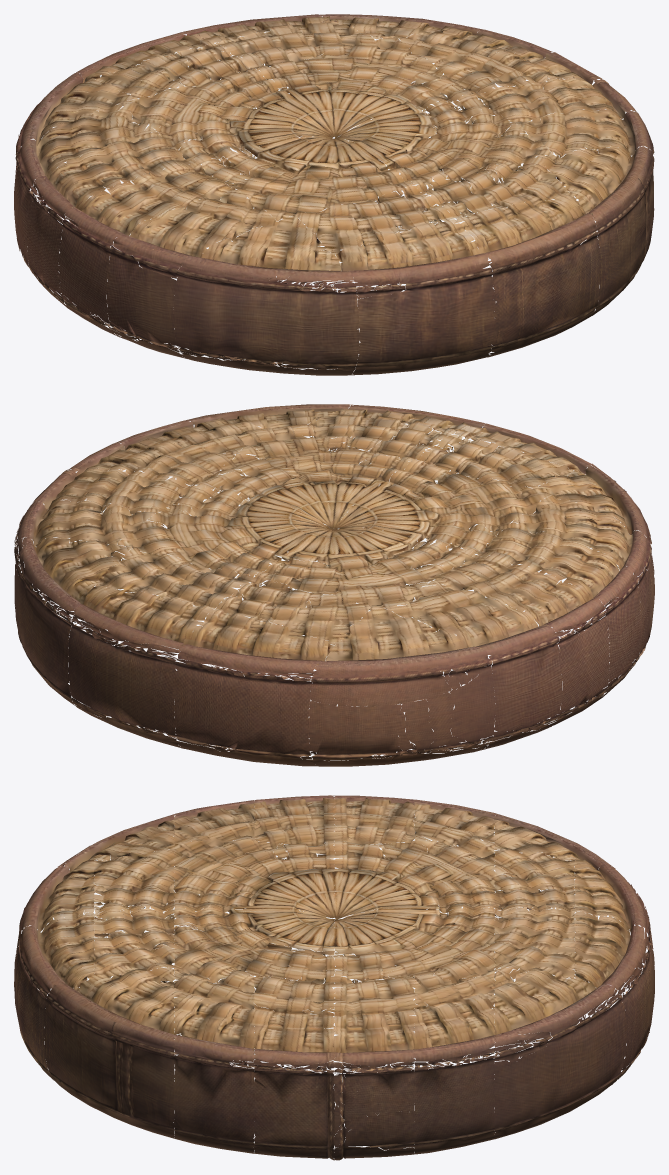
File: hi3d-cushion.glb
3 renders of one model, top to bottom at view 1: azimuth 30°, elevation 25°; view 2: azimuth 150°, elevation 25°; view 3: azimuth 270°, elevation 25°, orthographic.
Visible parts, largest first — view 1: cushion; view 2: cushion; view 3: cushion.
Part boxes in pixels (<box>): cushion: <box>14,14,654,375</box>; cushion: <box>14,404,654,766</box>; cushion: <box>14,795,654,1160</box>.
Size of the model in its own units: 0.843 by 0.1998 by 0.8441.
Materials: 1 (1 with a texture image).
